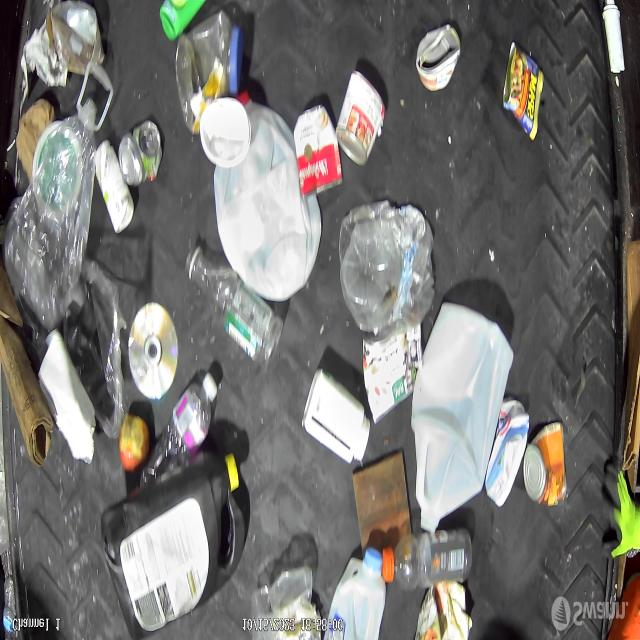can: (362, 322, 424, 424), (336, 70, 385, 168), (293, 104, 343, 198), (502, 42, 544, 142), (523, 422, 567, 508), (414, 26, 462, 92), (118, 120, 162, 187)
milk_jug: (410, 301, 514, 535), (212, 92, 322, 302), (324, 548, 386, 640)
non_white_jug: (101, 453, 247, 640)
plastic_bottle: (4, 63, 114, 332), (184, 240, 284, 372), (139, 373, 217, 497), (176, 12, 242, 132), (342, 222, 398, 332), (384, 530, 474, 592), (3, 579, 14, 640)
